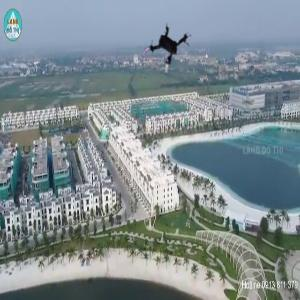drone: (141, 18, 200, 77)
